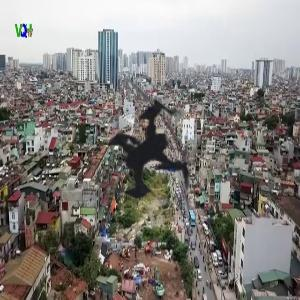drone: (16, 12, 298, 294)
